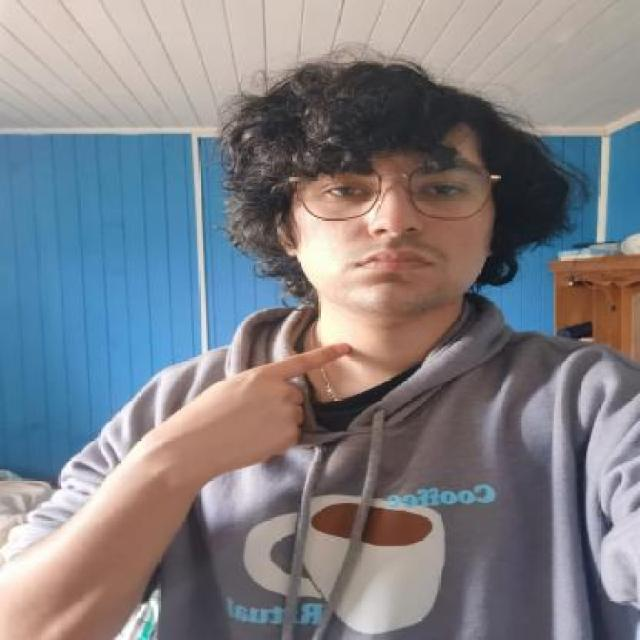Q: (145, 340, 352, 471)
